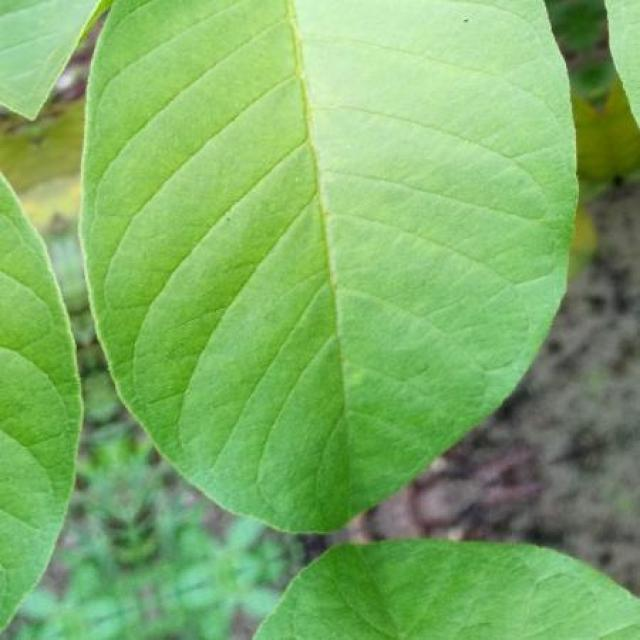Disease Free: (258, 542, 640, 639), (0, 176, 81, 621)
